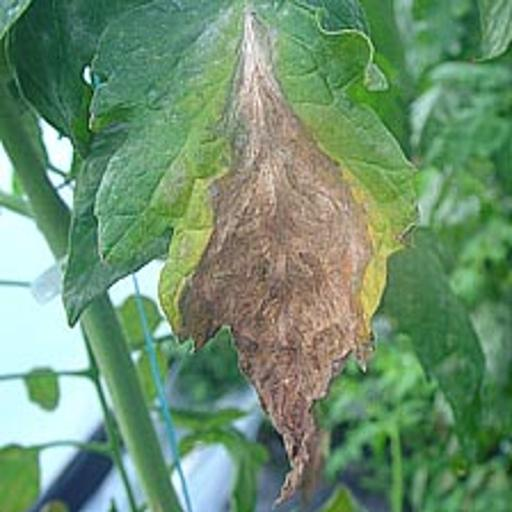Leaf Mold: (178, 12, 380, 495)
